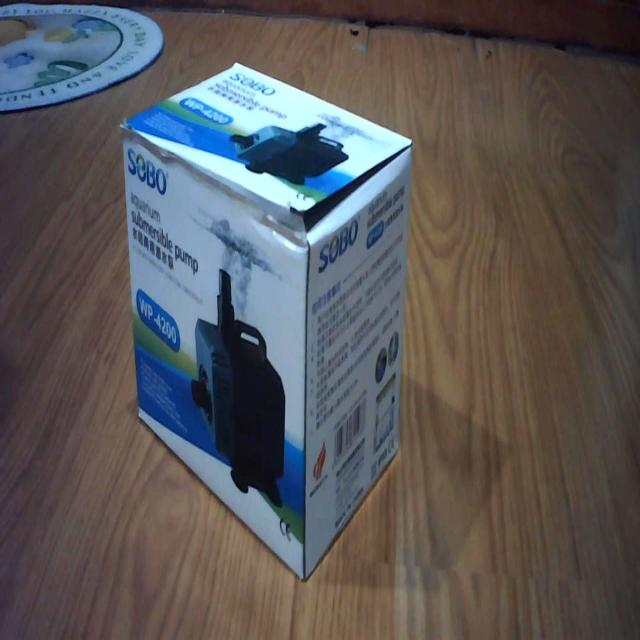SOBO_WP_4200: (117, 54, 419, 588)
